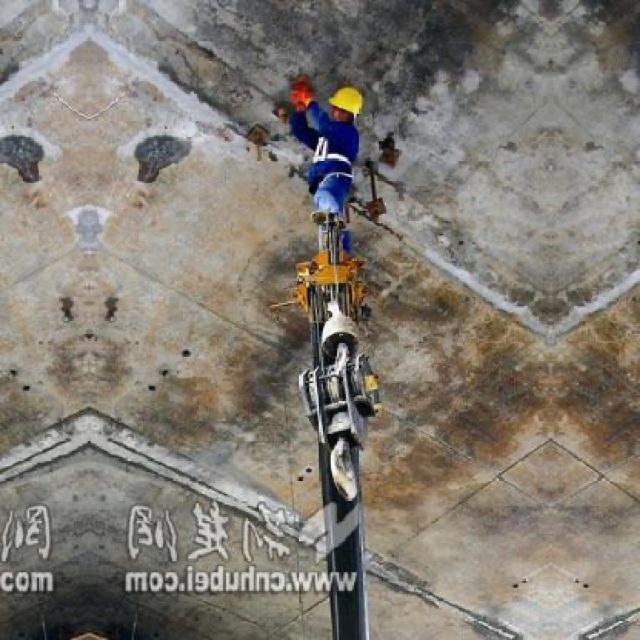helmet: (329, 83, 368, 128)
